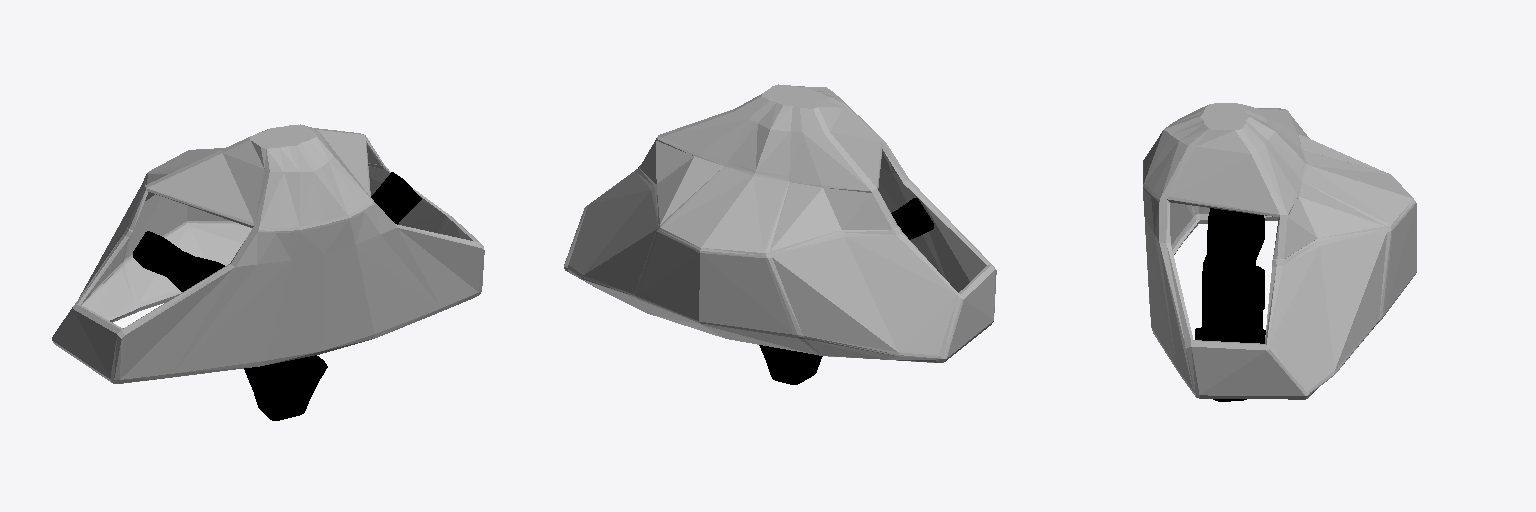
Rendered from hip.obj.
3 views of the same model, side by side, from view 1: azimuth 30°, elevation 25°; view 2: azimuth 150°, elevation 25°; view 3: azimuth 270°, elevation 25° (orthographic).
Visible parts, largest first — view 1: hip, joint_hip1, joint_hip3, joint_hip2; view 2: hip, joint_hip1, joint_hip3; view 3: hip, joint_hip2, joint_hip3, joint_hip1.
Boxes of the visible parts, box(x1,y1,x2,y2) form: hip: box(52, 124, 484, 383); joint_hip1: box(244, 355, 327, 420); joint_hip3: box(133, 231, 224, 291); joint_hip2: box(371, 172, 421, 224); hip: box(564, 84, 996, 362); joint_hip1: box(759, 345, 822, 384); joint_hip3: box(891, 198, 933, 239); hip: box(1143, 103, 1416, 399); joint_hip2: box(1203, 247, 1264, 325); joint_hip3: box(1203, 208, 1264, 270); joint_hip1: box(1195, 269, 1265, 401).
Size of the model in its own units: 3.2 by 2.23 by 1.99.